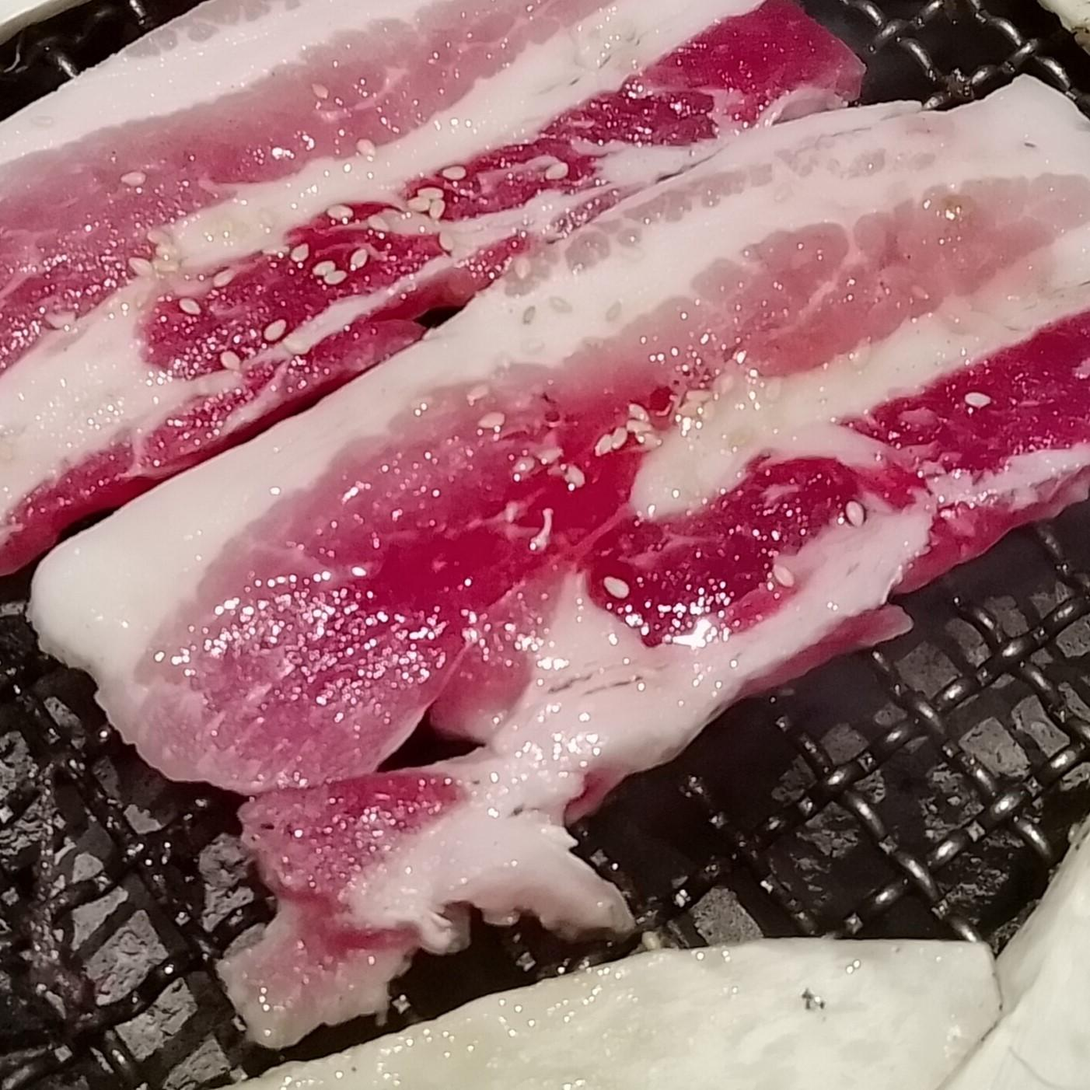Undercooked: (29, 0, 1089, 1045), (0, 0, 863, 574)
